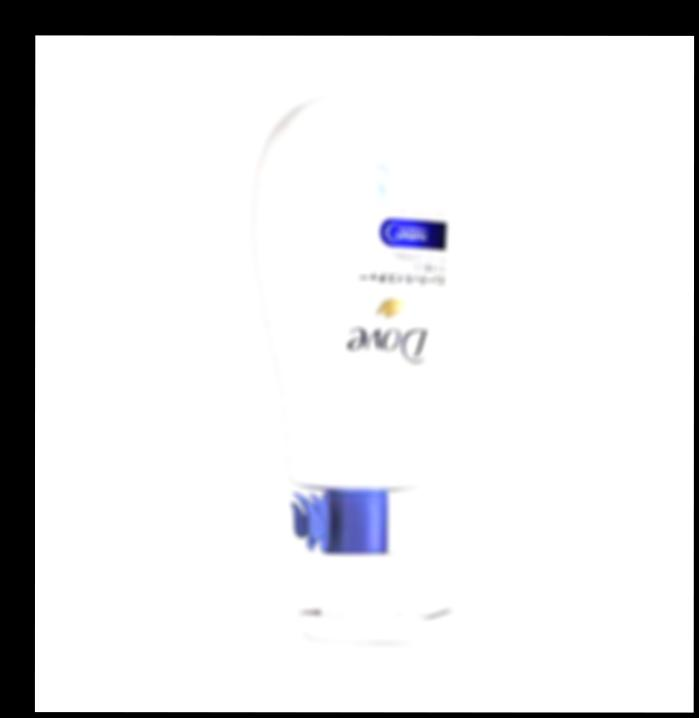cosmetic: (246, 88, 471, 648)
